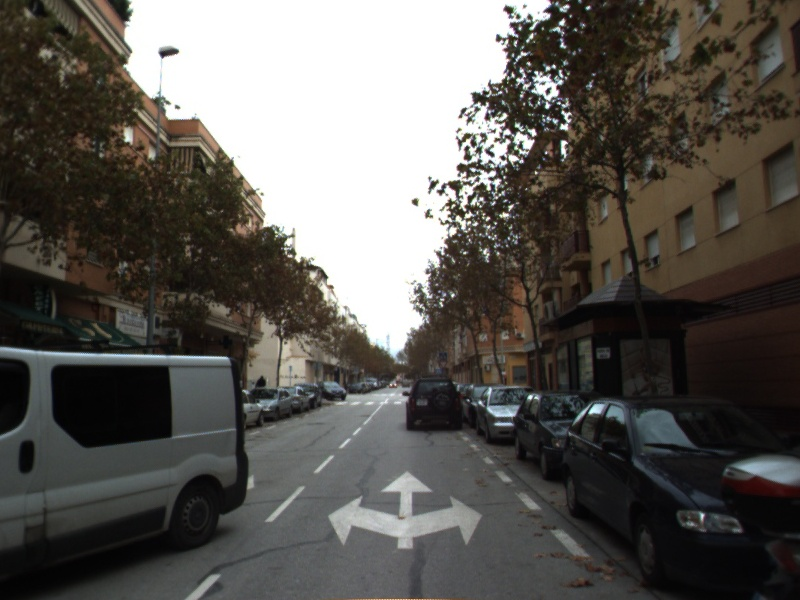STRAIGHT_LEFT_RIGHT: (324, 466, 487, 551)
